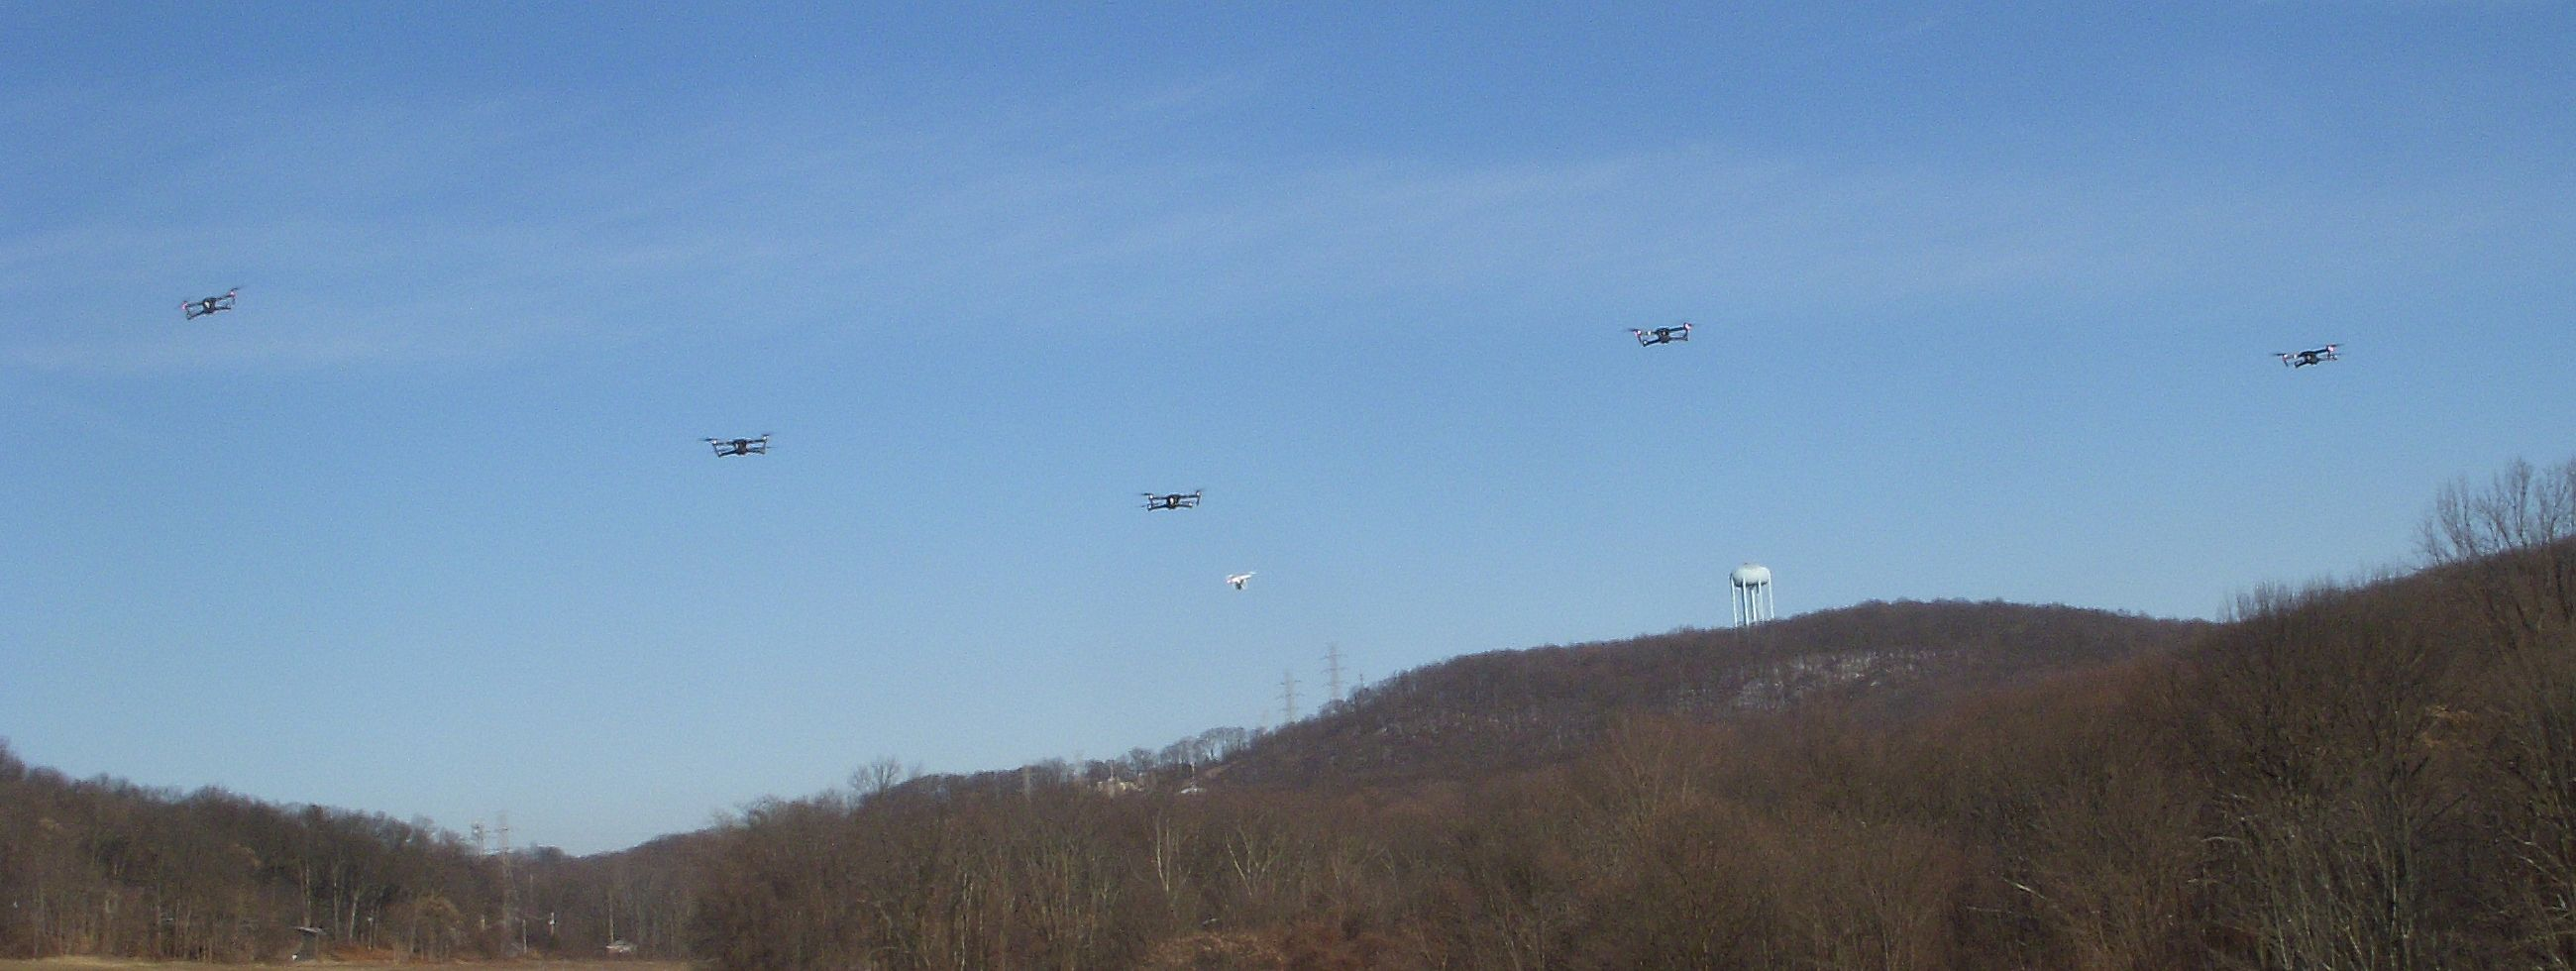drone: (698, 427, 780, 465), (179, 286, 246, 325), (1134, 486, 1217, 518), (1620, 320, 1705, 350), (2269, 343, 2351, 371), (1221, 570, 1263, 595)
